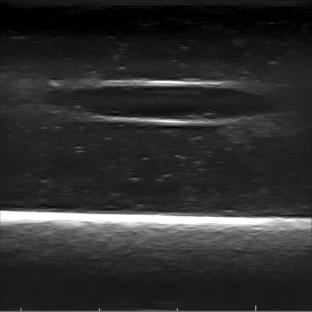vessel: (63, 79, 277, 126)
